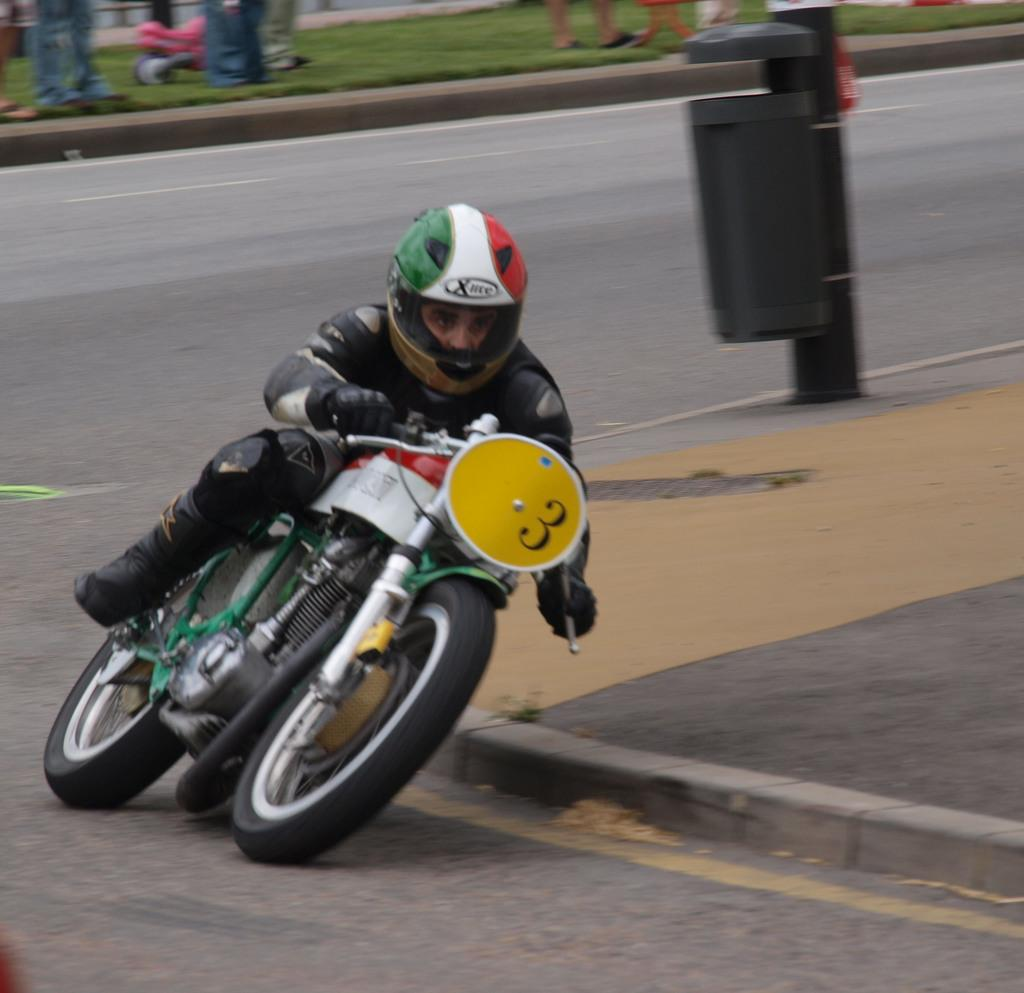helmet: (386, 203, 528, 397)
